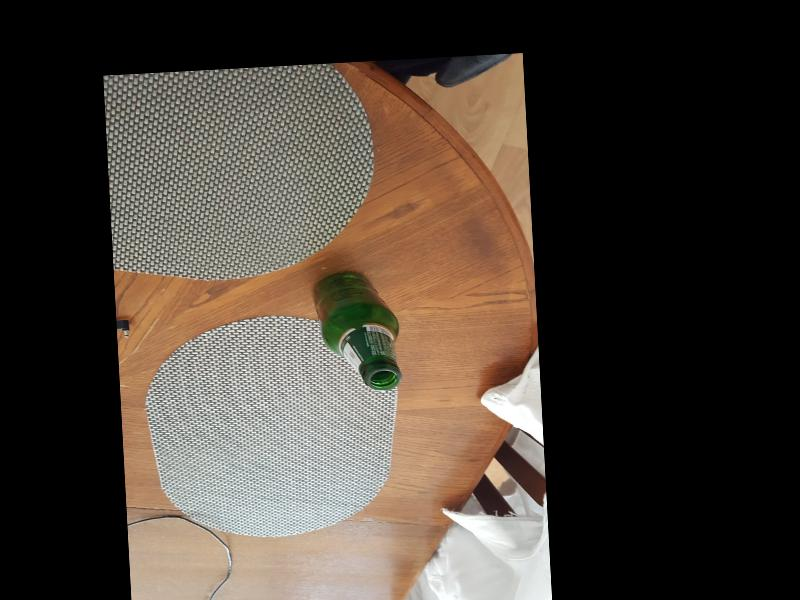Beer: (314, 267, 401, 393)
